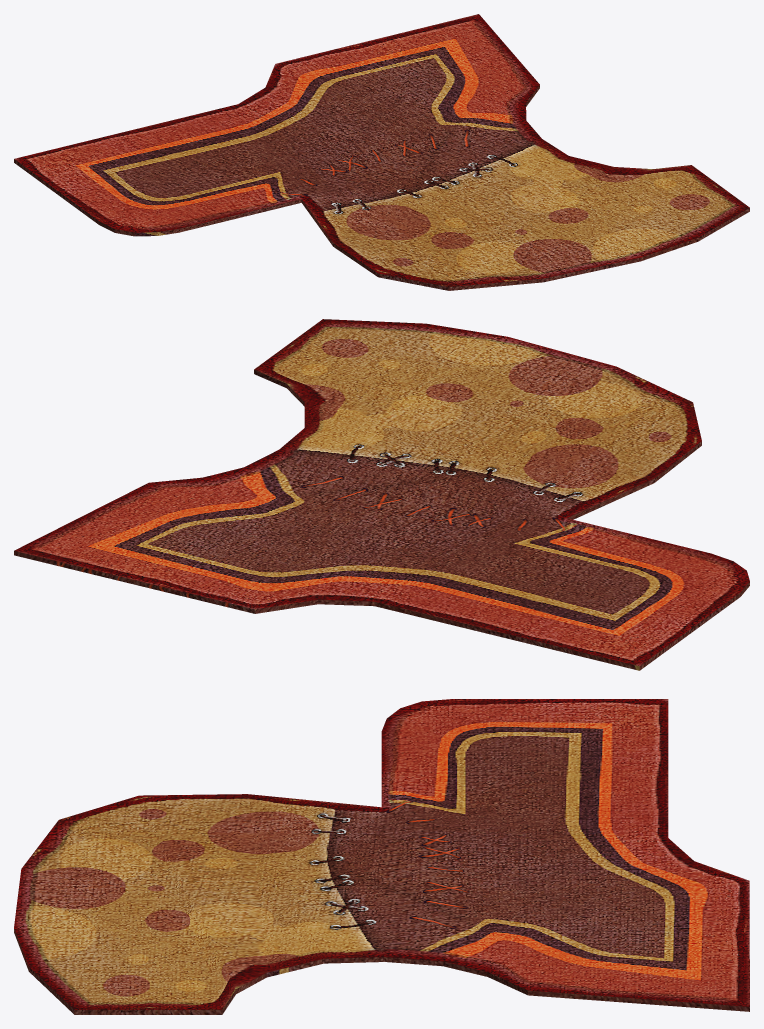
Rendered from M_Home_Garden_Carpet_015.fbx.
3 views of the same model, one above another, from view 1: azimuth 30°, elevation 25°; view 2: azimuth 150°, elevation 25°; view 3: azimuth 270°, elevation 25° (orthographic). The views are drawn at different scales.
Parts seen in each view (by area): view 1: M_Home_Garden_Carpet_015; view 2: M_Home_Garden_Carpet_015; view 3: M_Home_Garden_Carpet_015.
Part boxes in pixels (left/top/right/bottom): M_Home_Garden_Carpet_015: left=14, top=14, right=749, bottom=290; M_Home_Garden_Carpet_015: left=14, top=319, right=749, bottom=670; M_Home_Garden_Carpet_015: left=14, top=699, right=749, bottom=1014.
Bounding box in the file's own units: 300 × 2.2 × 300.
